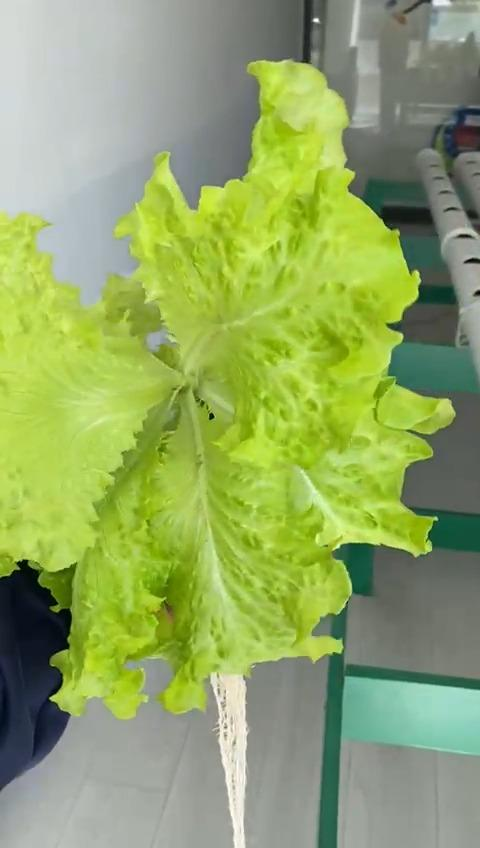Healthy: (0, 57, 480, 729)
